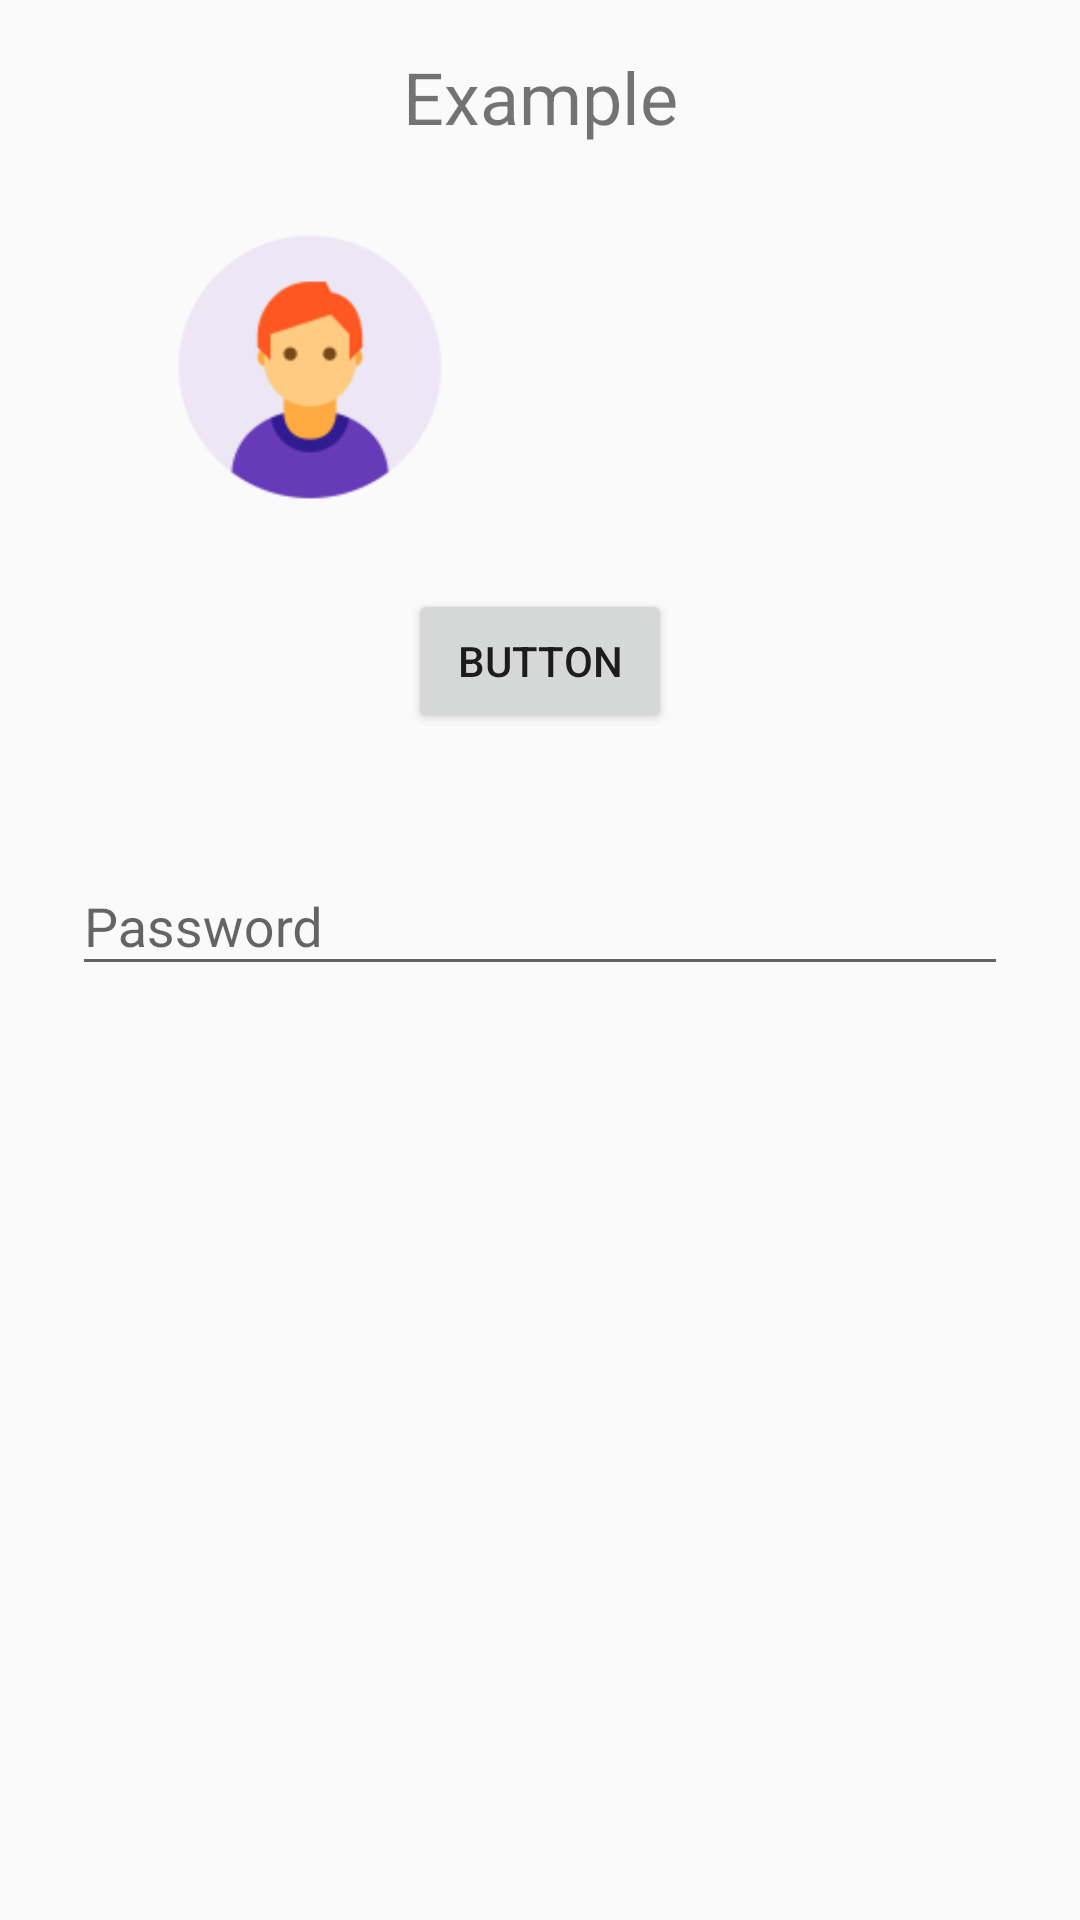

Screen size 1080px x 1920px. Icon name, then its center in pixels as (x=x, y=y):
image user: (x=310, y=390)
